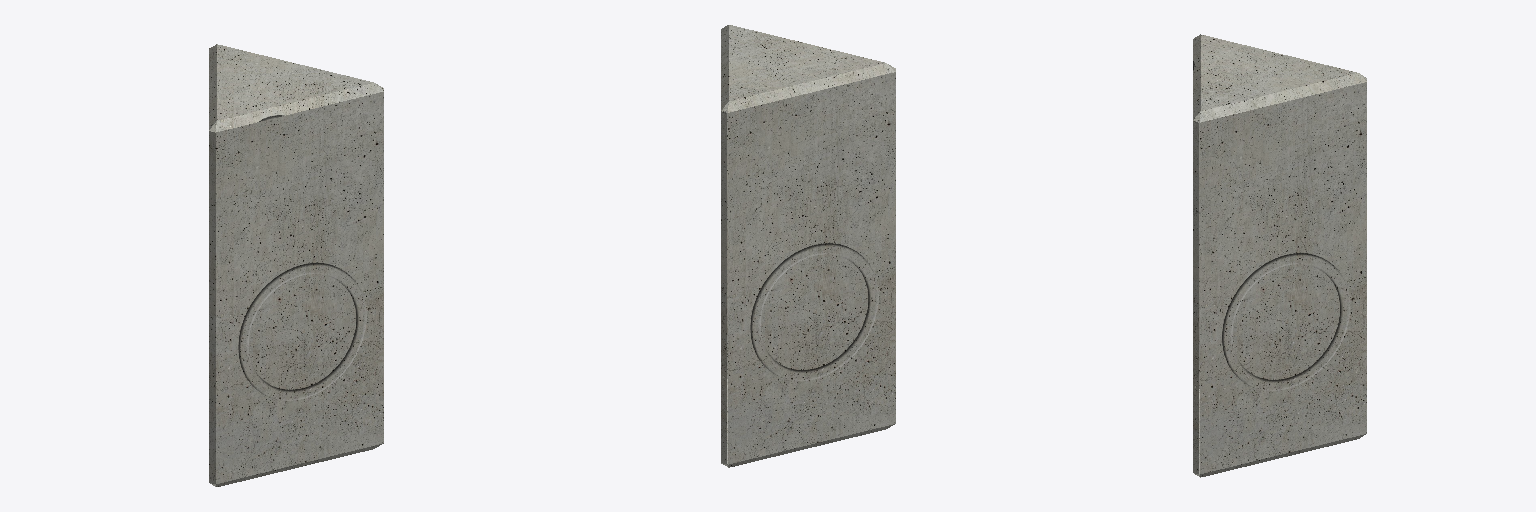
3 views of the same model, side by side, from view 1: azimuth 30°, elevation 25°; view 2: azimuth 150°, elevation 25°; view 3: azimuth 270°, elevation 25° (orthographic).
Visible parts, largest first — view 1: Fire_Circle; view 2: Fire_Circle; view 3: Fire_Circle.
Part boxes in pixels (left/top/right/bottom): Fire_Circle: left=209, top=44, right=383, bottom=486; Fire_Circle: left=721, top=25, right=895, bottom=467; Fire_Circle: left=1193, top=34, right=1366, bottom=477.
Bounding box in the file's own units: 0.2498 × 0.5 × 0.2163.
1 materials, 1 textured.